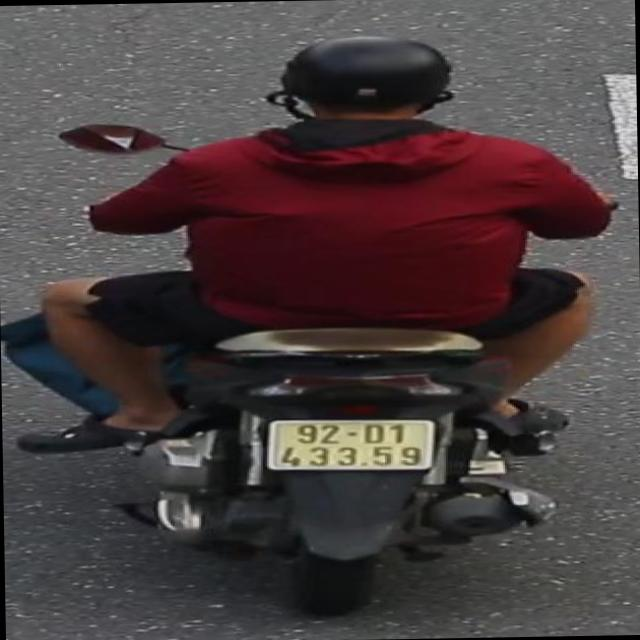LP: (257, 412, 443, 478)
helmet: (248, 27, 476, 153)
